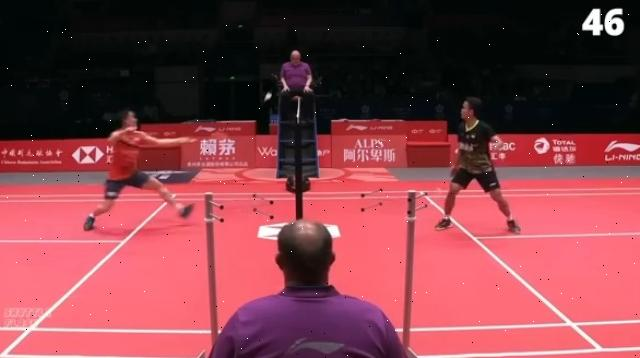Shuttlecock: (262, 90, 276, 102)
